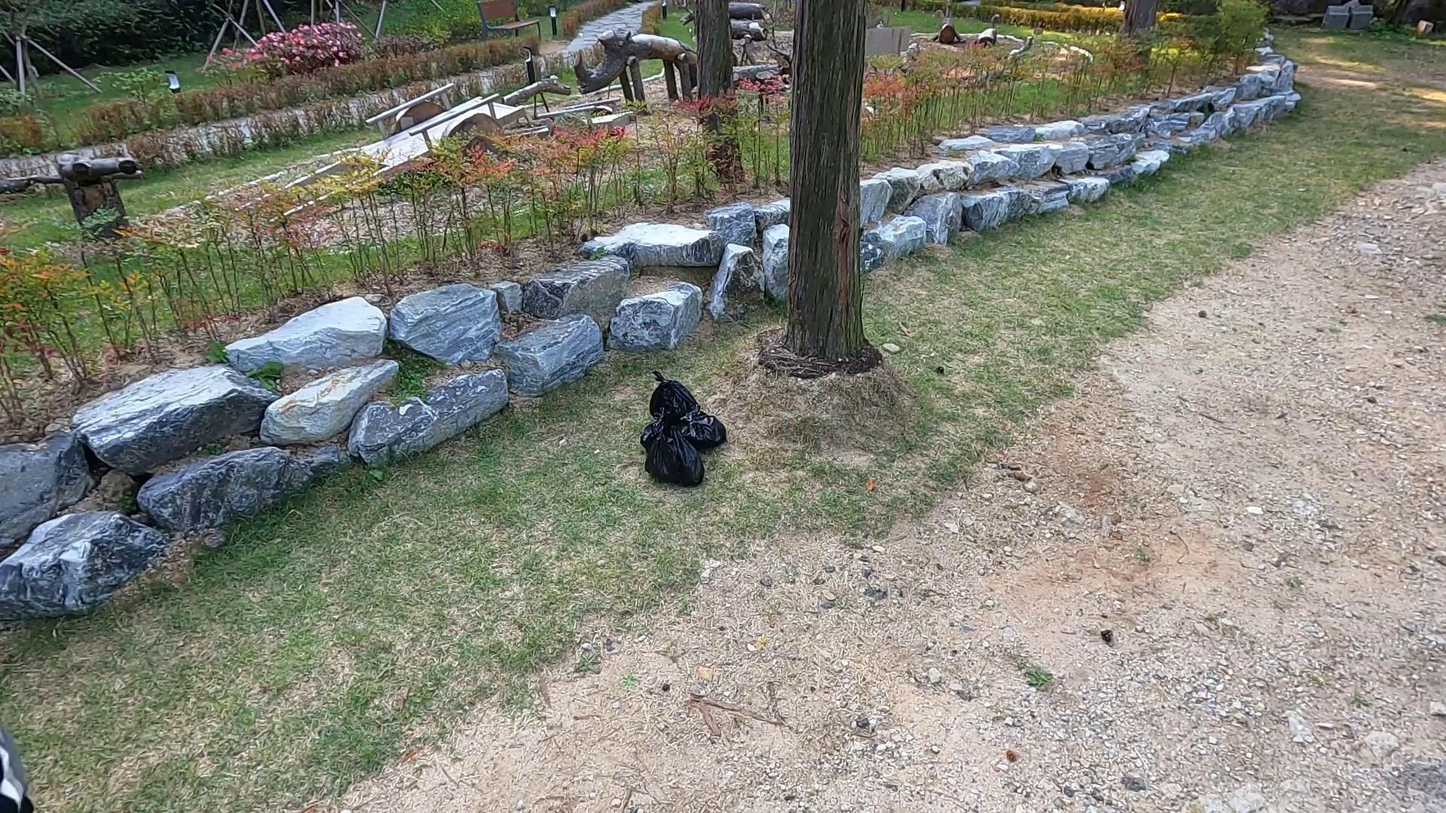trash: (644, 365, 705, 432), (650, 421, 706, 488), (669, 412, 739, 445)
